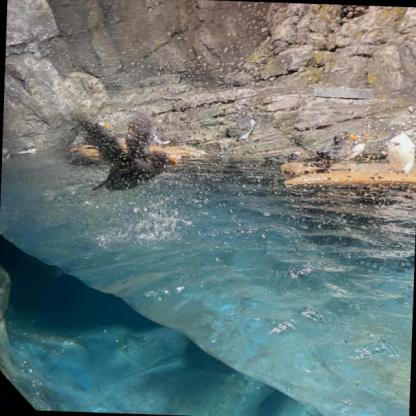puffin: (80, 118, 180, 198), (318, 132, 361, 178), (340, 129, 374, 166), (268, 146, 312, 173), (230, 113, 258, 141)
